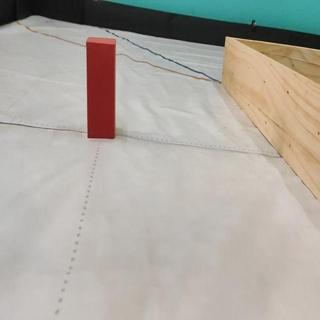redbox: (85, 37, 118, 140)
